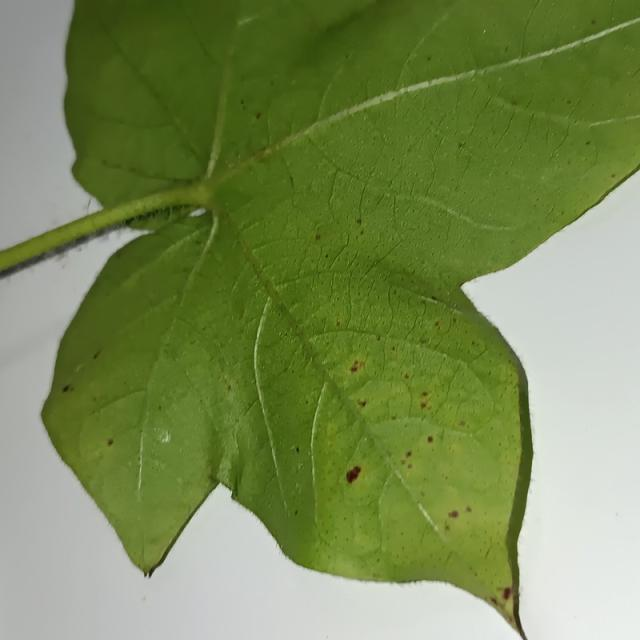Bacterial_Blight: (336, 455, 367, 487)
Cotton: (0, 0, 639, 637)
